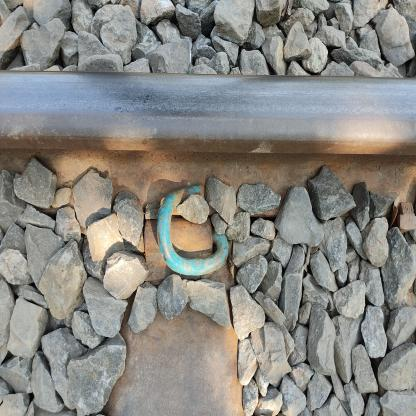Non Defective 1: (178, 124, 304, 289)
